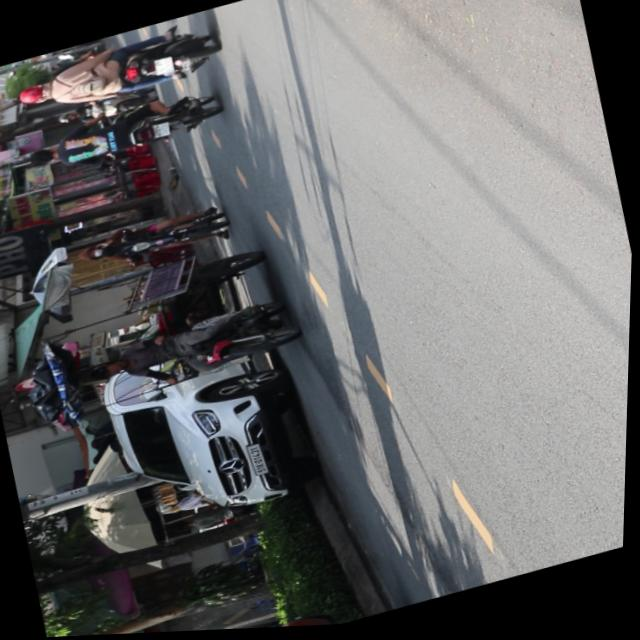helmet: (16, 81, 53, 108)
licenseplate: (10, 18, 223, 124), (21, 86, 226, 180)
motorcyclist: (89, 357, 129, 385), (26, 145, 60, 169)
nohelmet: (152, 56, 174, 76), (153, 122, 173, 139)
